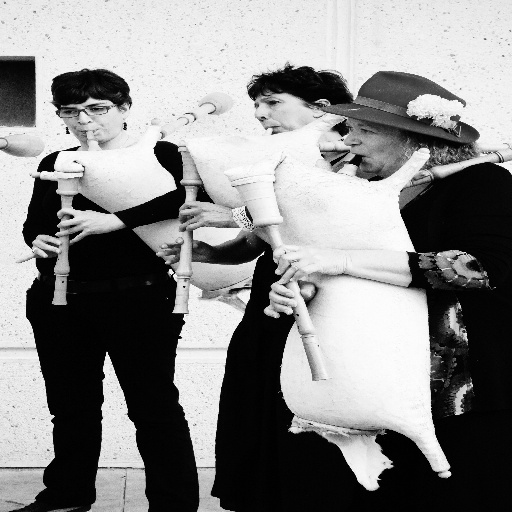hand: (272, 242, 345, 286), (53, 206, 120, 247), (265, 270, 309, 327), (173, 199, 235, 234), (155, 234, 214, 266), (10, 233, 63, 263)
